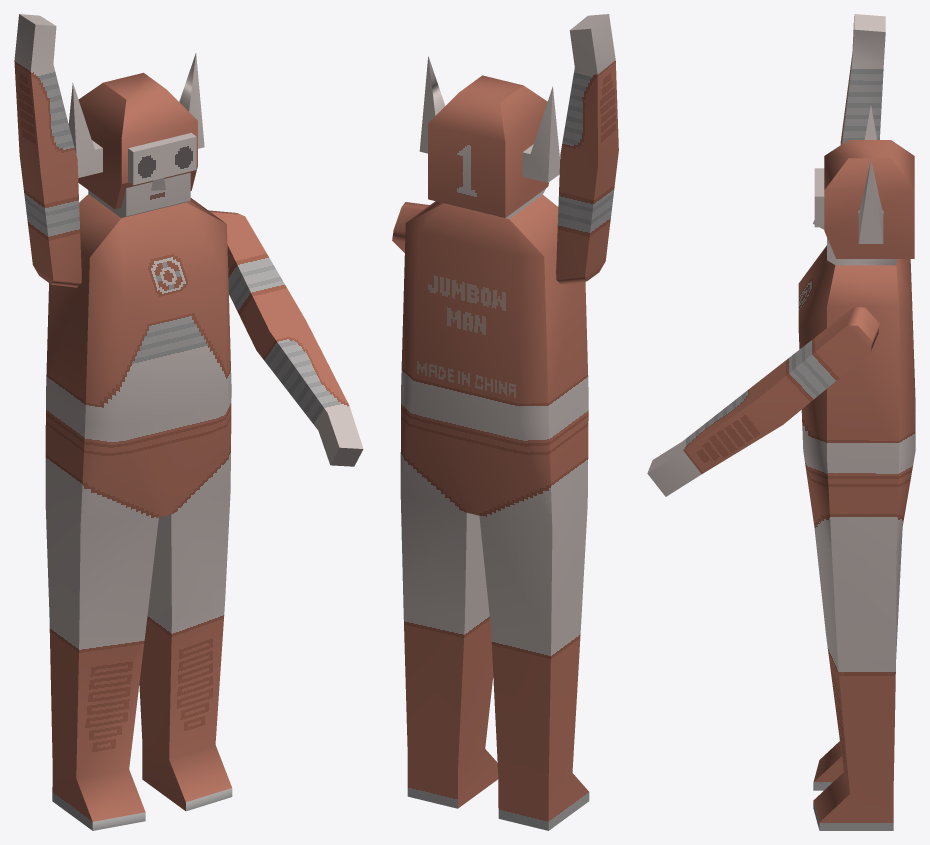
Rendered from 016a_Jumboman_Figure.glb.
3 views of the same model, side by side, from view 1: azimuth 30°, elevation 25°; view 2: azimuth 150°, elevation 25°; view 3: azimuth 270°, elevation 25° (orthographic). The views are drawn at different scales.
Visible parts, largest first — view 1: part_0; view 2: part_0; view 3: part_0.
Part boxes in pixels (x1,y1,x2,y2): part_0: [14, 14, 363, 830]; part_0: [392, 14, 618, 830]; part_0: [647, 14, 915, 830].
Size of the model in its own units: 0.0671 by 0.2258 by 0.0745.
1 material, 1 textured.
